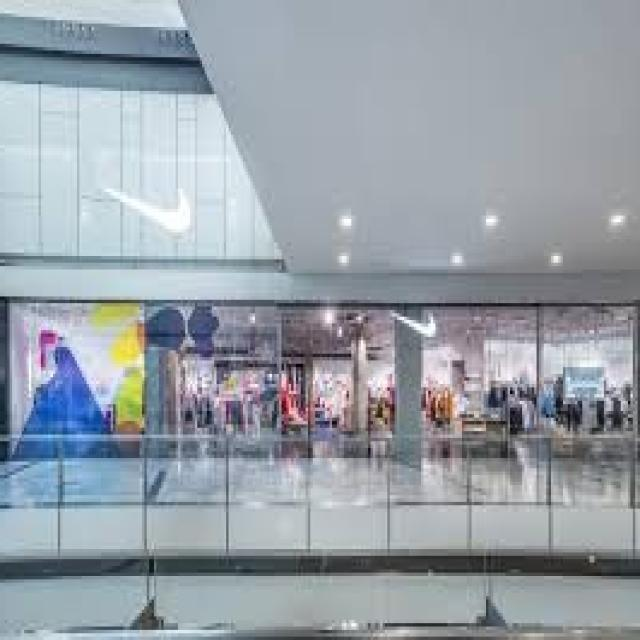nike: (100, 174, 196, 238), (389, 303, 444, 345)
